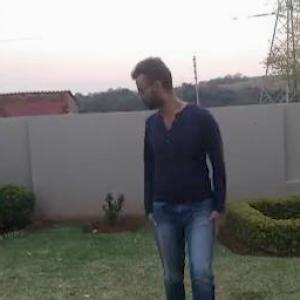follow: (133, 46, 231, 299)
